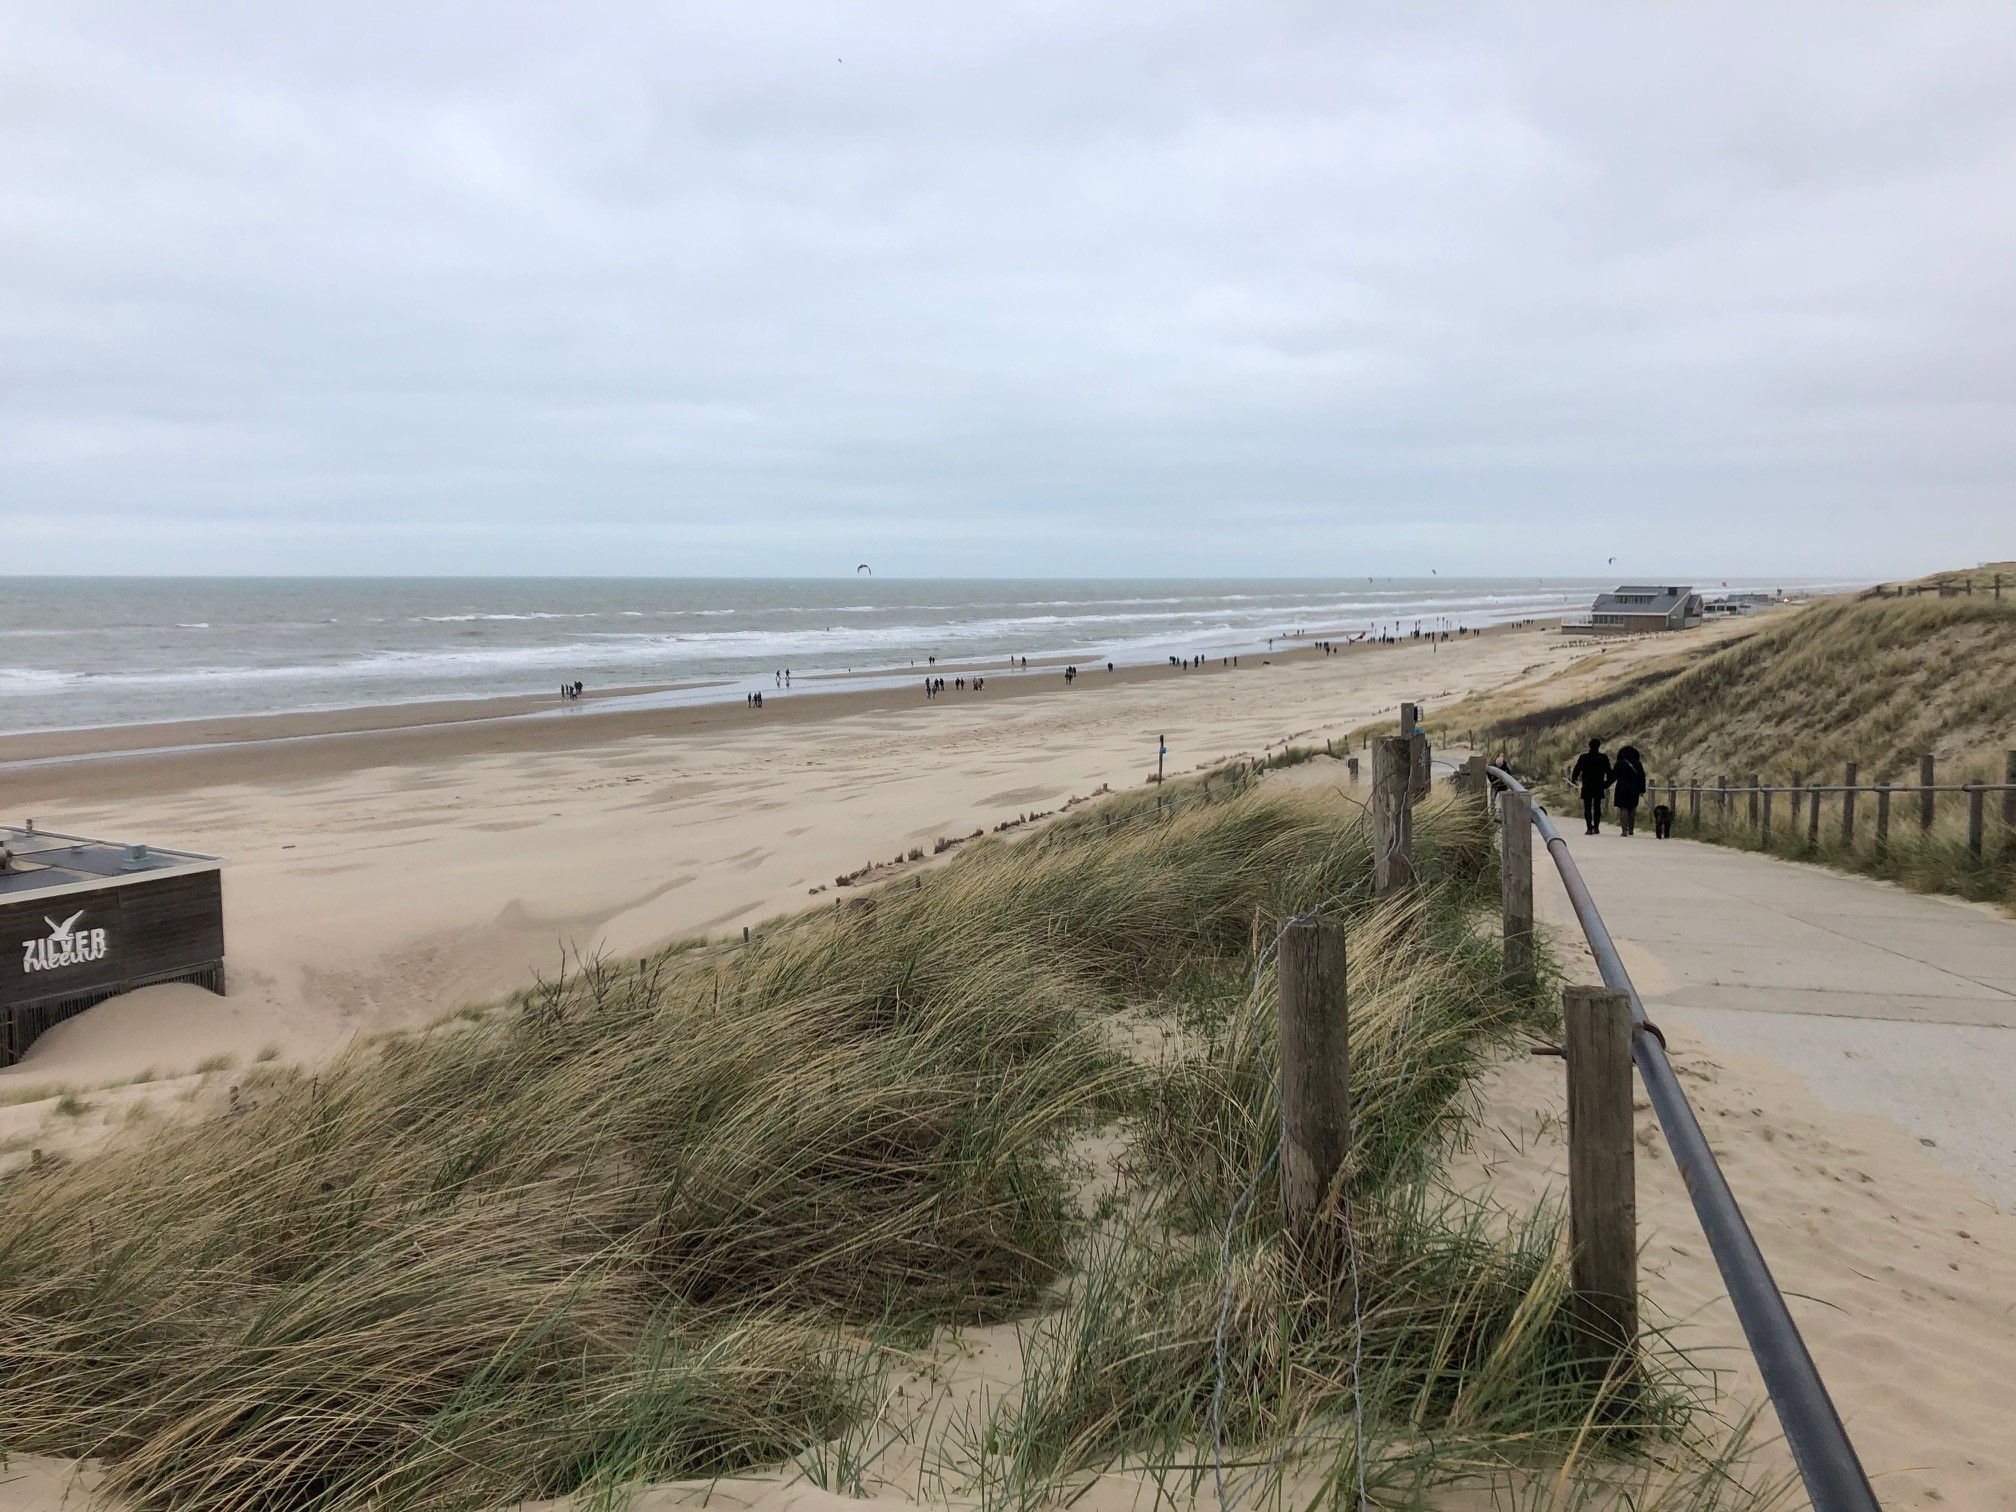pad: (1460, 743, 2016, 1495)
